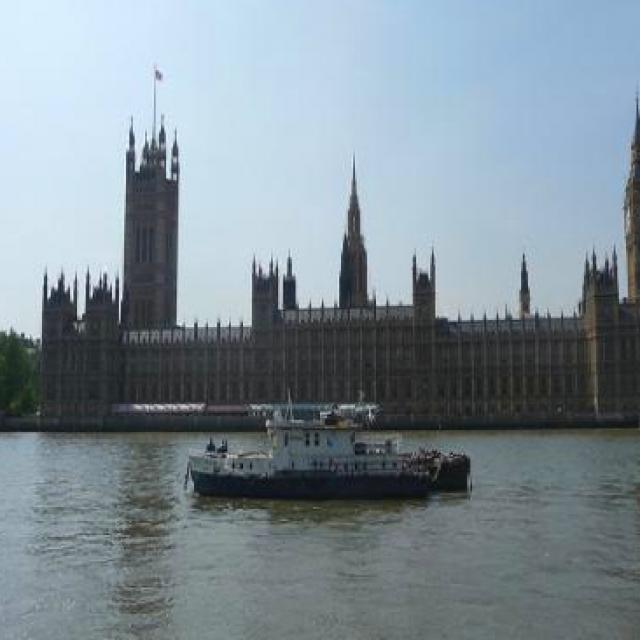ship: (184, 400, 468, 495)
